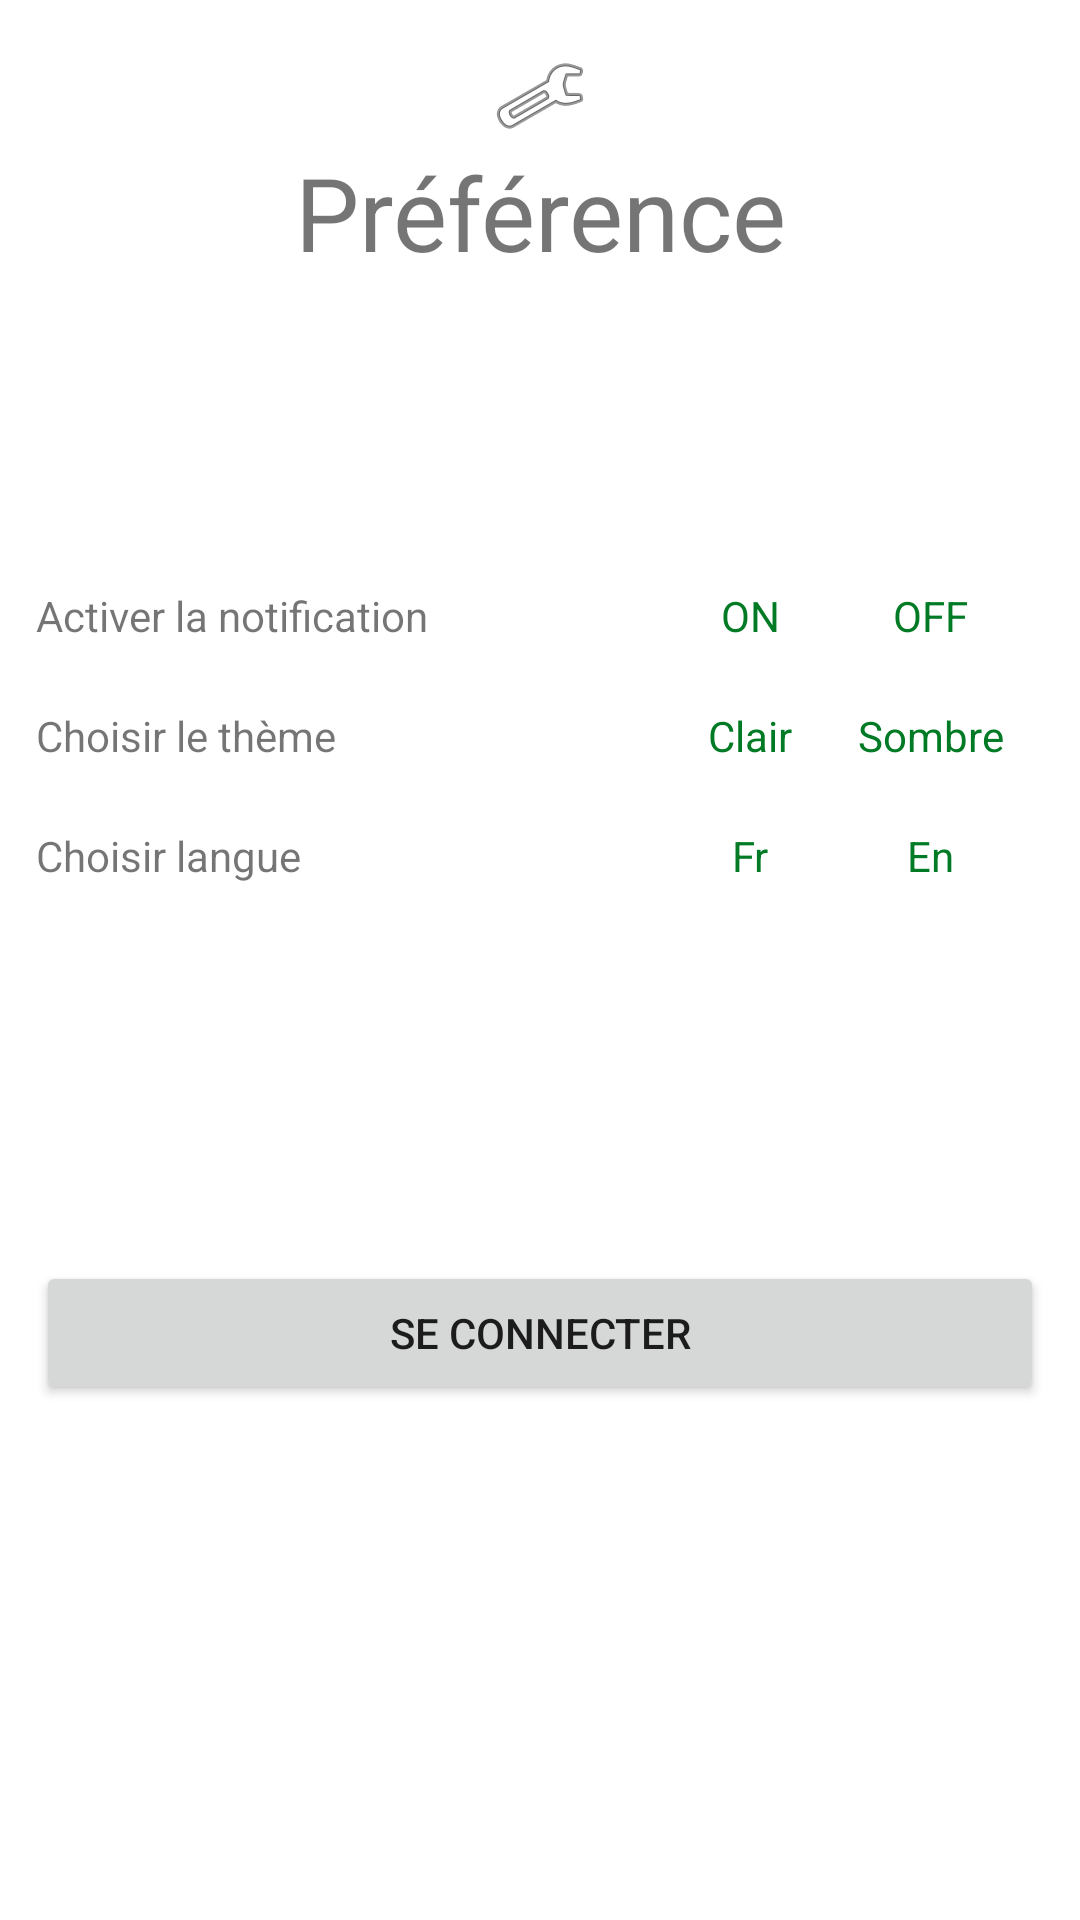

Point at icon controls on the screen. Image size 1080*1920, points as (x=x, y=y).
manage: (x=540, y=96)
